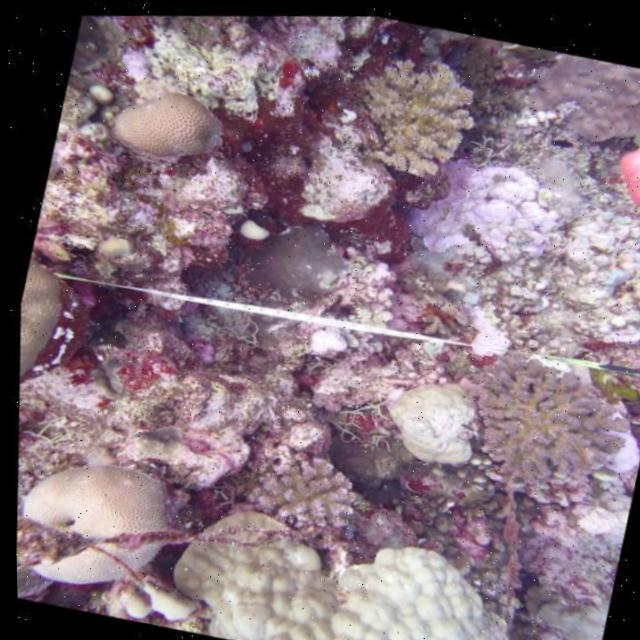Bleached Coral: (151, 476, 532, 640), (384, 129, 585, 280), (233, 420, 368, 554), (357, 350, 495, 479)
Healthy Coral: (9, 240, 76, 390), (102, 86, 221, 164)
